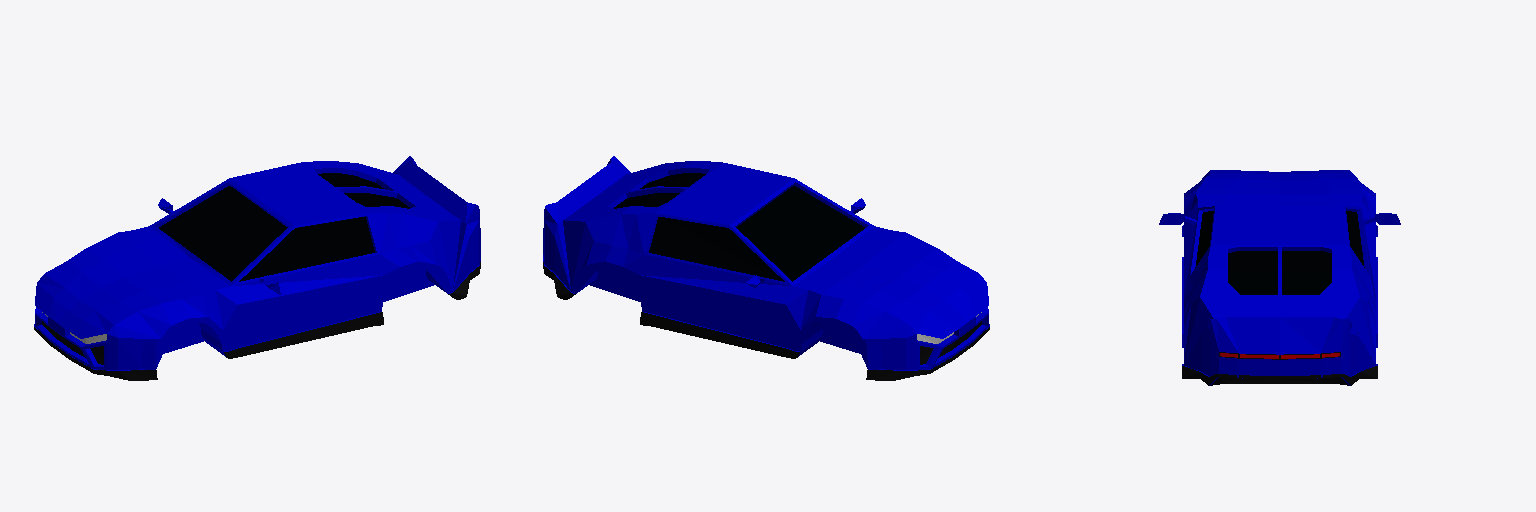
Rendered from carro.obj.
3 views of the same model, side by side, from view 1: azimuth 30°, elevation 25°; view 2: azimuth 150°, elevation 25°; view 3: azimuth 270°, elevation 25° (orthographic).
Parts seen in each view (by area): view 1: Cube; view 2: Cube; view 3: Cube.
Boxes of the visible parts, x1,y1,x2,y2 form: Cube: [34, 156, 480, 380]; Cube: [543, 156, 989, 380]; Cube: [1159, 170, 1400, 385].
Bounding box in the file's own units: 11.03 × 2.78 × 5.82.